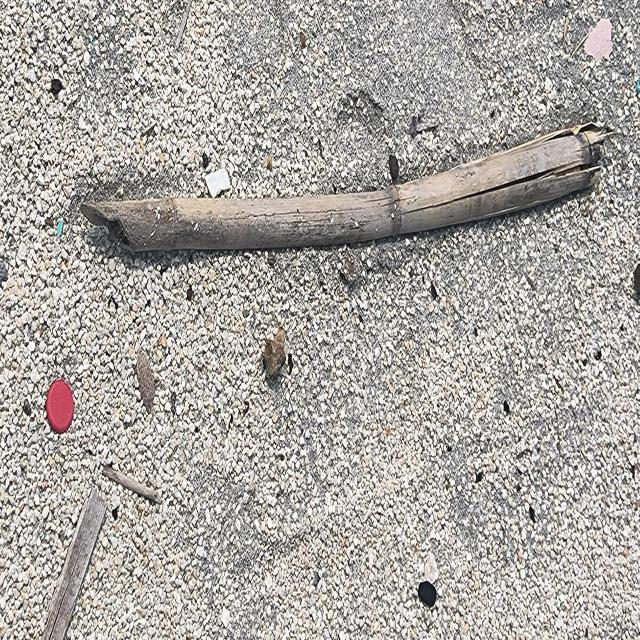plastic_waste: (47, 380, 76, 436)
wood_waste: (81, 123, 602, 255)
